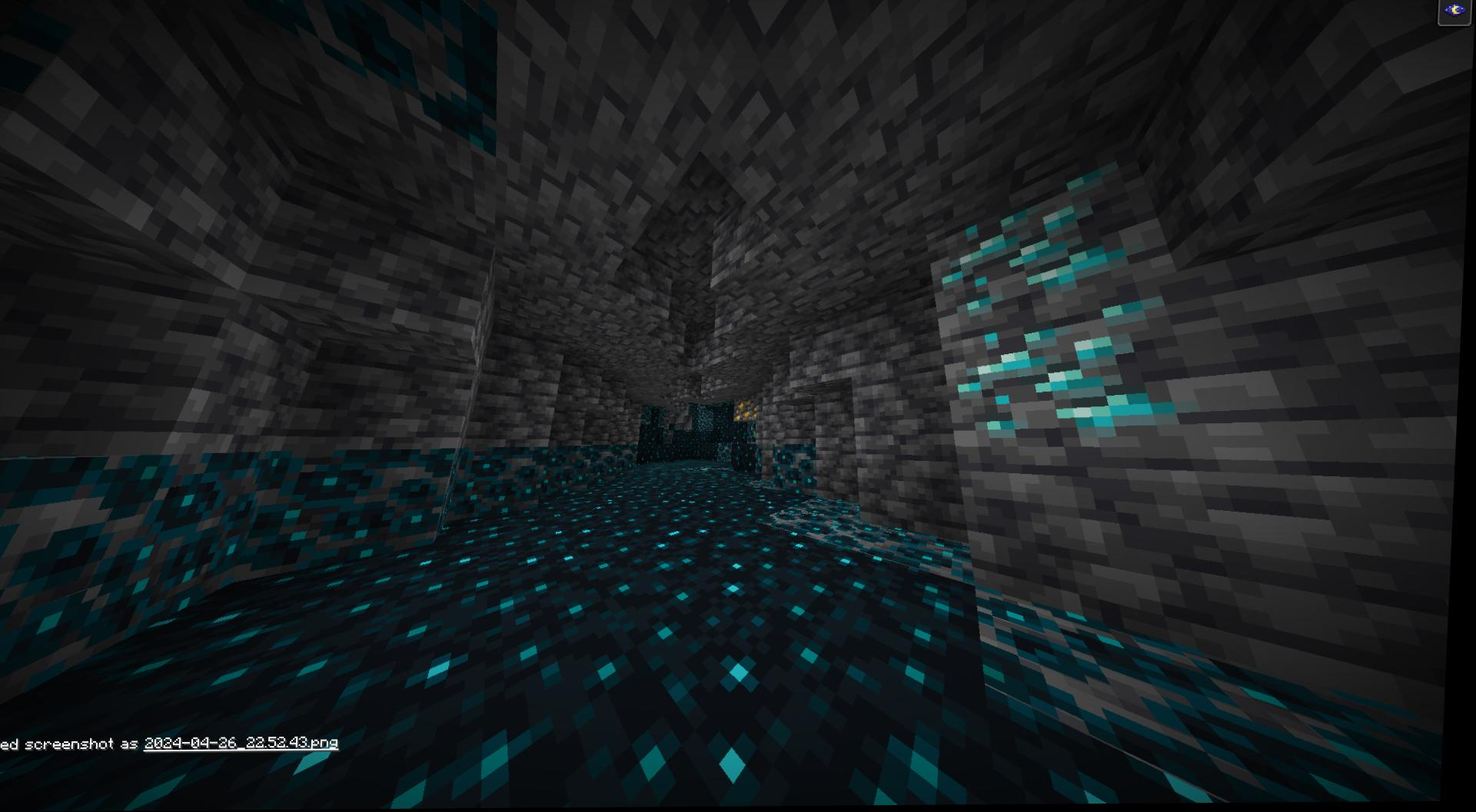diamond ore: (957, 315, 1189, 443), (948, 182, 1149, 317)
gold ore: (733, 395, 769, 426)
